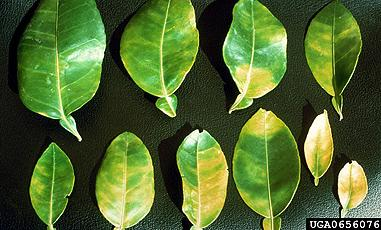Citrus Greening: (16, 0, 107, 119), (119, 0, 200, 119), (231, 108, 302, 230), (221, 0, 289, 116), (301, 0, 364, 121), (95, 131, 156, 230), (176, 128, 230, 230), (28, 141, 77, 230)
